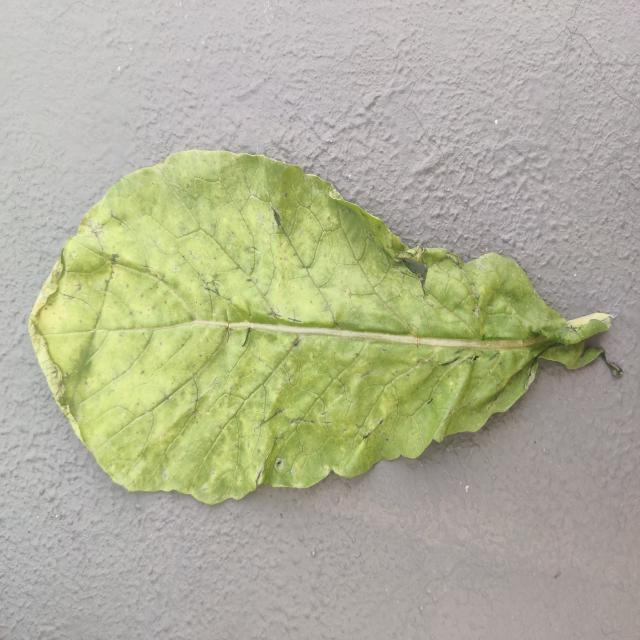leaf: (27, 146, 622, 505)
